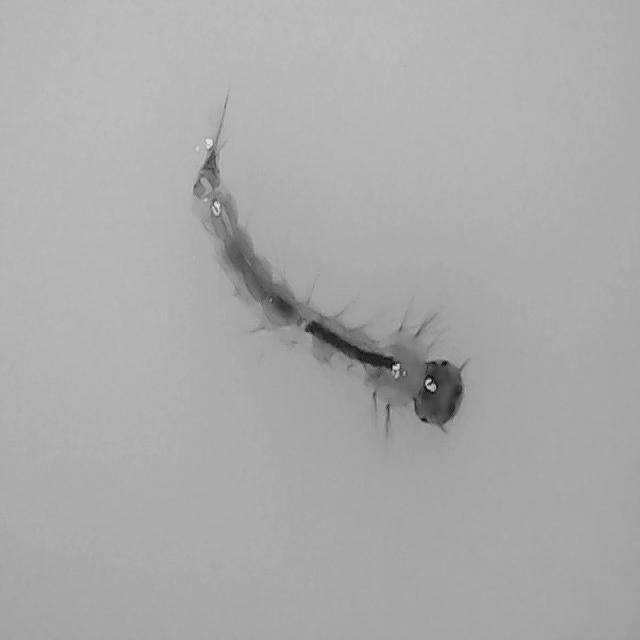larvas: (198, 148, 467, 425)
